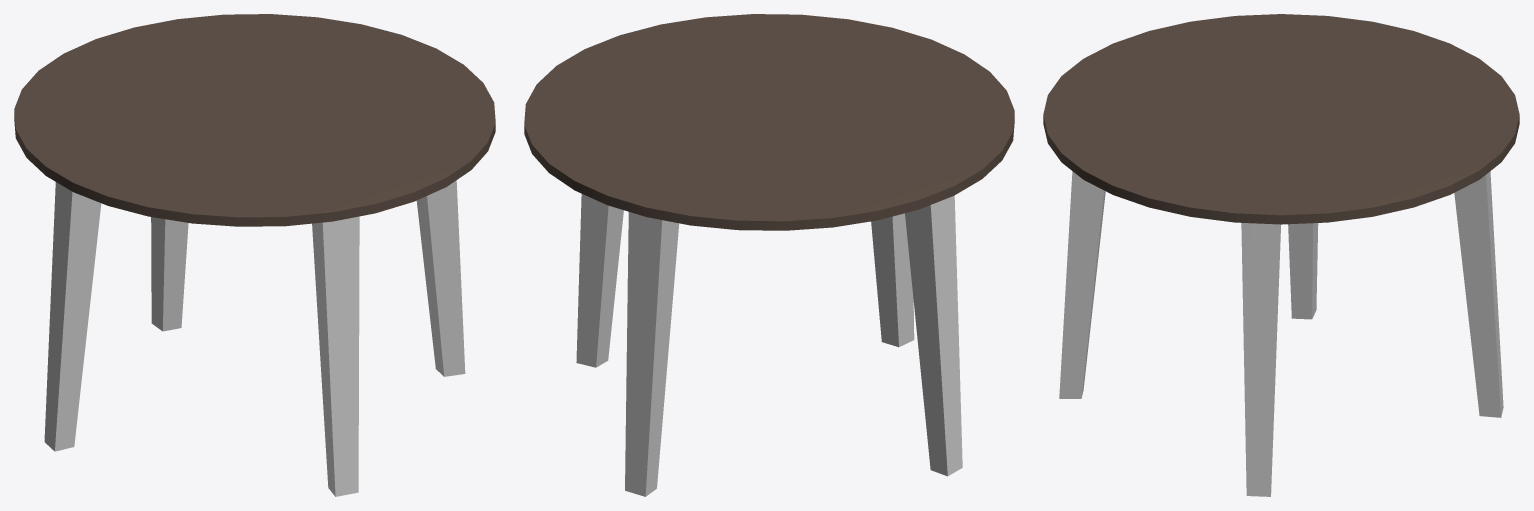
The model's file is TableRonde_17.fbx.
3 views of the same model, side by side, from view 1: azimuth 30°, elevation 25°; view 2: azimuth 150°, elevation 25°; view 3: azimuth 270°, elevation 25° (orthographic). The views are drawn at different scales.
Visible parts, largest first — view 1: pCylinder1782; view 2: pCylinder1782; view 3: pCylinder1782.
Part boxes in pixels (x1=…): pCylinder1782: x1=14, y1=14, x2=495, y2=496; pCylinder1782: x1=524, y1=14, x2=1014, y2=496; pCylinder1782: x1=1043, y1=14, x2=1519, y2=496.
Bounding box in the file's own units: 45.4 × 30.65 × 45.4.
